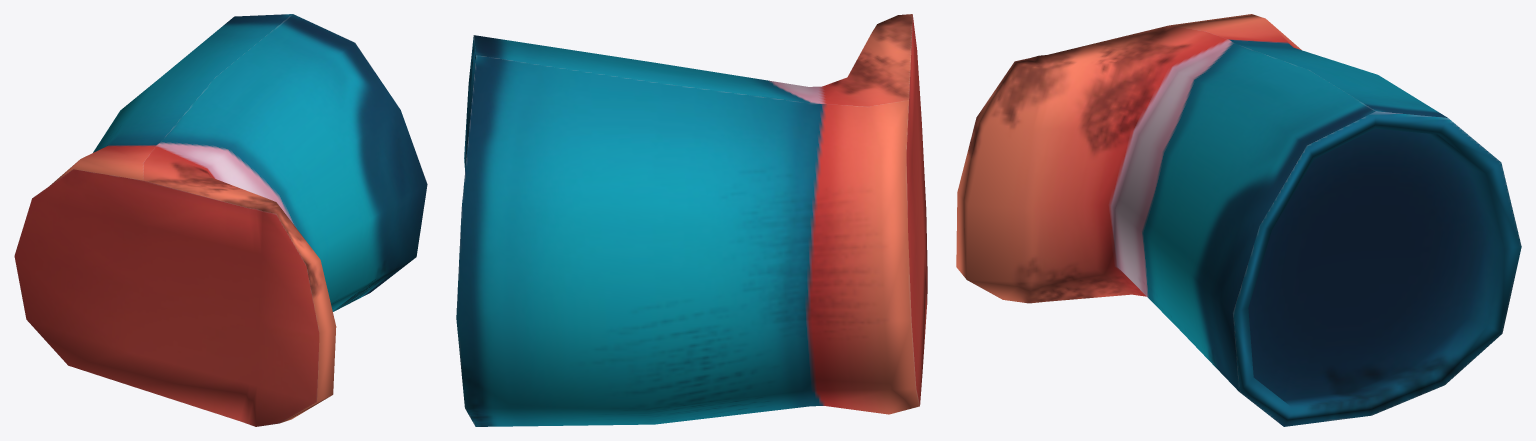
Rendered from broken1.fbx.
3 views of the same model, side by side, from view 1: azimuth 30°, elevation 25°; view 2: azimuth 150°, elevation 25°; view 3: azimuth 270°, elevation 25° (orthographic). The views are drawn at different scales.
Visible parts, largest first — view 1: pCube5; view 2: pCube5; view 3: pCube5.
Part boxes in pixels (x1,y1,x2,y2): pCube5: (14,14,427,426); pCube5: (456,14,927,426); pCube5: (956,14,1521,426).
Size of the model in its own units: 75.77 by 51.62 by 86.11.
